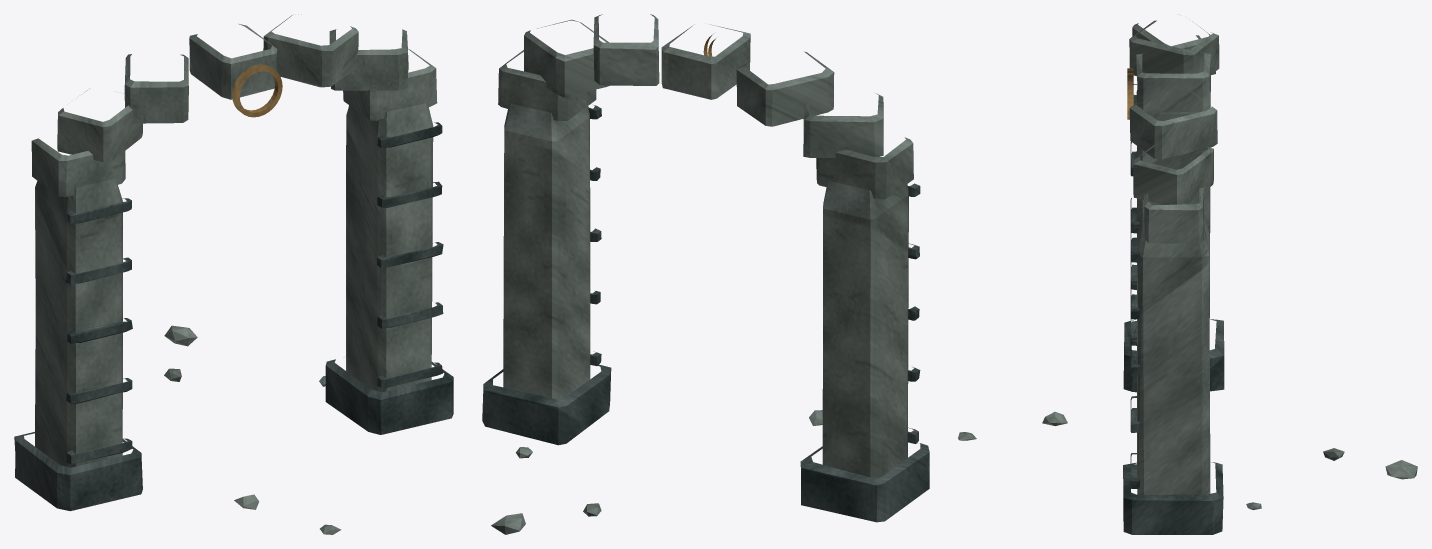
Rendered from 0325_archway_25.glb.
The picture shows the model from 3 angles, left to right: view 1: azimuth 30°, elevation 25°; view 2: azimuth 150°, elevation 25°; view 3: azimuth 270°, elevation 25°; orthographic projection. The views are drawn at different scales.
Visible parts, largest first — view 1: stone, stone_dark, brass; view 2: stone, stone_dark; view 3: stone, stone_dark.
Boxes of the visible parts, x1=… form: stone: x1=31, y1=14, x2=437, y2=534; stone_dark: x1=14, y1=122, x2=453, y2=511; brass: x1=232, y1=64, x2=282, y2=117; stone: x1=491, y1=14, x2=913, y2=534; stone_dark: x1=482, y1=105, x2=929, y2=522; stone: x1=958, y1=20, x2=1417, y2=509; stone_dark: x1=1123, y1=84, x2=1224, y2=534.
Size of the model in its own units: 3.69 by 3.65 by 3.94.
3 materials, 3 textured.
